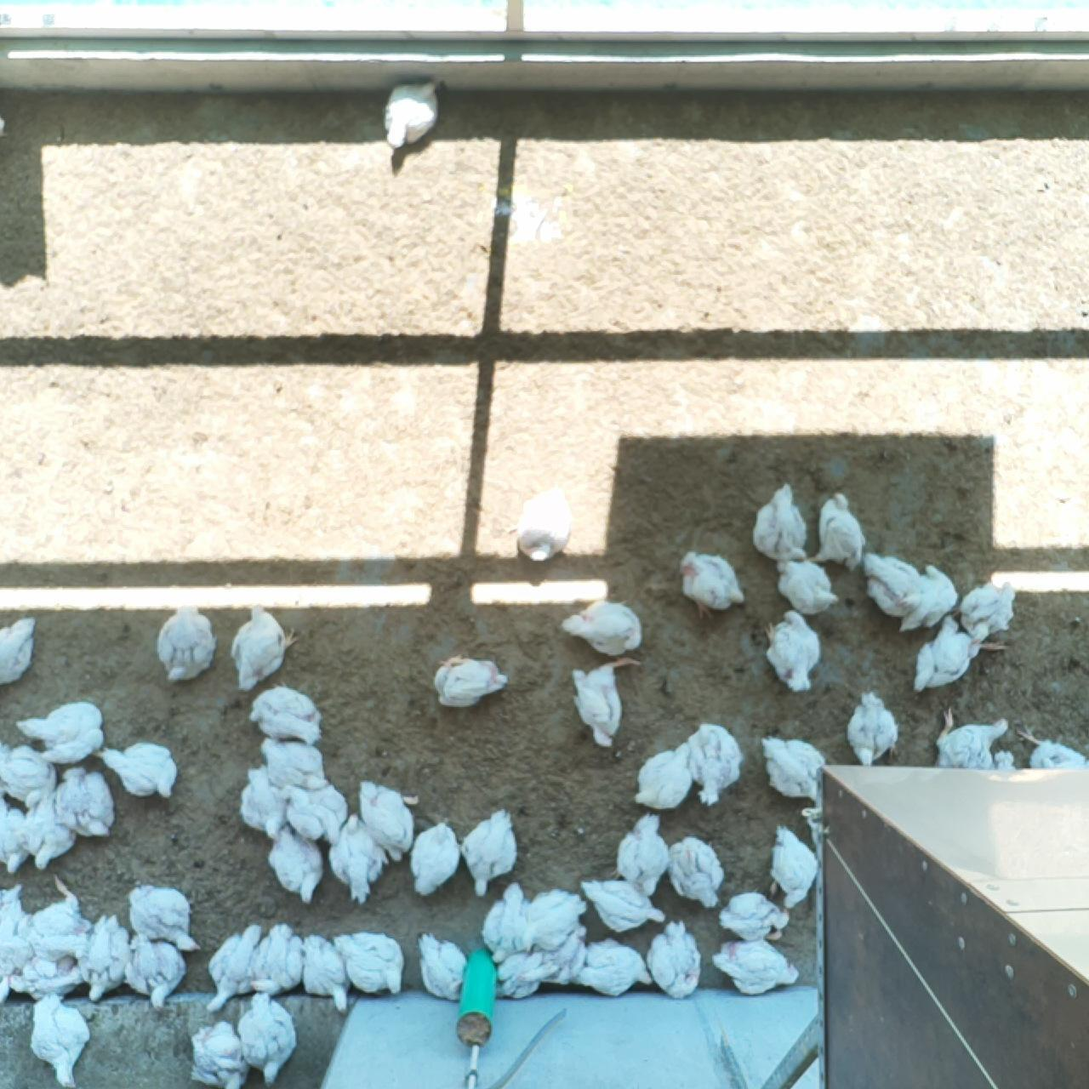chicken: (909, 616, 1006, 694), (12, 875, 98, 958), (228, 599, 301, 693), (27, 985, 91, 1089), (568, 656, 641, 747), (14, 697, 106, 768), (200, 920, 267, 1014), (235, 990, 300, 1086), (458, 801, 523, 896), (574, 873, 667, 935), (353, 780, 422, 863), (120, 929, 188, 1013), (323, 813, 386, 903), (262, 817, 324, 907), (377, 71, 444, 153), (334, 927, 407, 1002), (505, 484, 575, 562), (761, 606, 823, 694), (126, 884, 205, 953), (685, 720, 745, 810), (13, 788, 78, 871), (663, 829, 728, 912), (576, 936, 657, 1002), (562, 596, 644, 661), (712, 939, 800, 999), (47, 765, 115, 842), (247, 678, 325, 745), (155, 600, 217, 684), (675, 551, 748, 621), (934, 707, 1012, 772), (272, 777, 344, 847), (296, 930, 352, 1020), (95, 739, 177, 800), (646, 917, 705, 1001), (614, 812, 673, 895), (802, 489, 865, 566), (763, 824, 822, 906), (755, 734, 823, 805), (841, 687, 901, 767), (243, 921, 307, 995), (753, 483, 810, 566), (252, 731, 329, 792), (431, 654, 510, 713), (632, 742, 698, 812), (858, 548, 924, 618), (185, 1018, 250, 1089), (951, 579, 1017, 648), (892, 564, 957, 634), (0, 738, 63, 809), (80, 915, 130, 1004), (236, 761, 289, 844), (480, 882, 534, 963), (403, 820, 459, 898), (517, 887, 587, 949), (714, 890, 791, 945), (5, 950, 84, 1003), (415, 929, 470, 1005), (769, 557, 842, 614), (523, 925, 592, 983), (1012, 727, 1089, 773), (0, 611, 43, 687), (487, 953, 549, 1004), (0, 793, 35, 878), (0, 938, 31, 1002), (0, 881, 29, 944)
